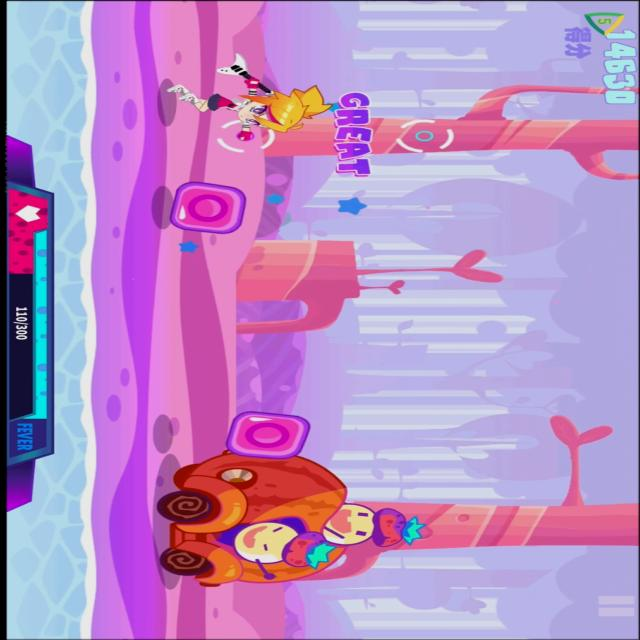kuai: (162, 176, 249, 239), (217, 407, 316, 462)
